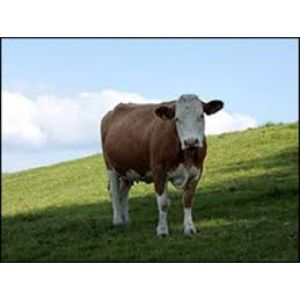cow: (99, 94, 226, 241)
